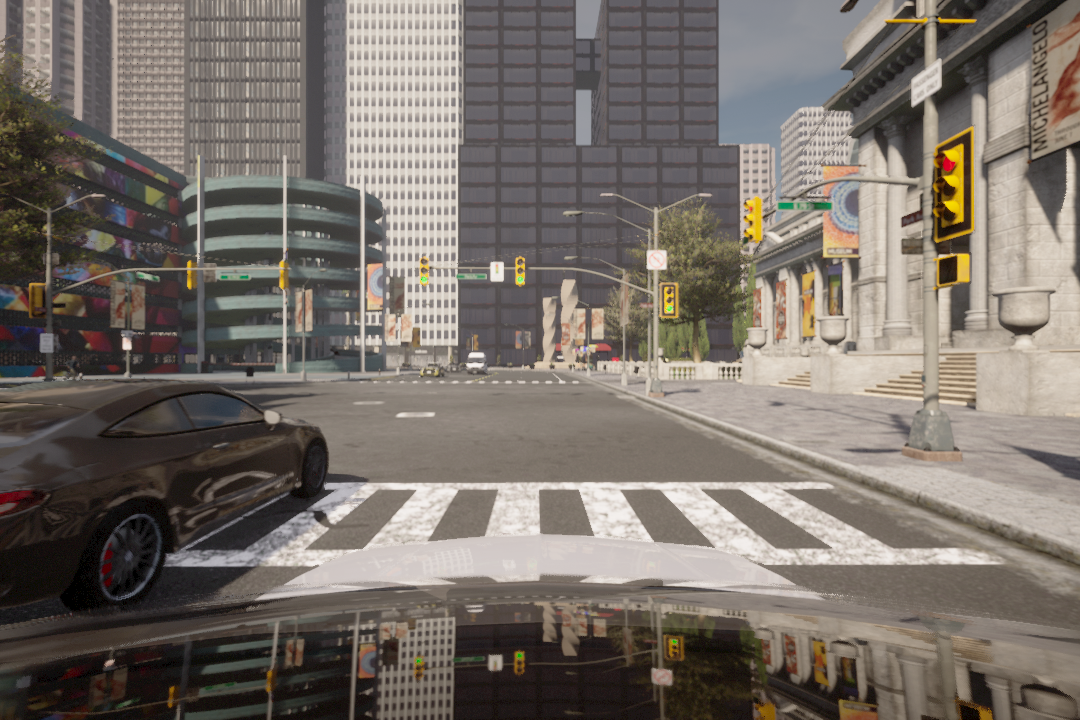TrafficLight: (934, 134, 978, 237), (654, 279, 683, 325), (747, 194, 761, 244), (511, 254, 528, 288), (418, 254, 429, 285)
TrafficSign: (644, 250, 669, 273)
walkside: (157, 471, 979, 570)
